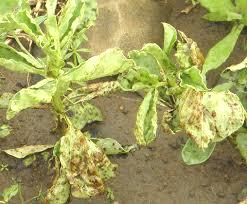Bok-Choy-Diseased: (170, 87, 246, 142), (52, 135, 110, 193)
